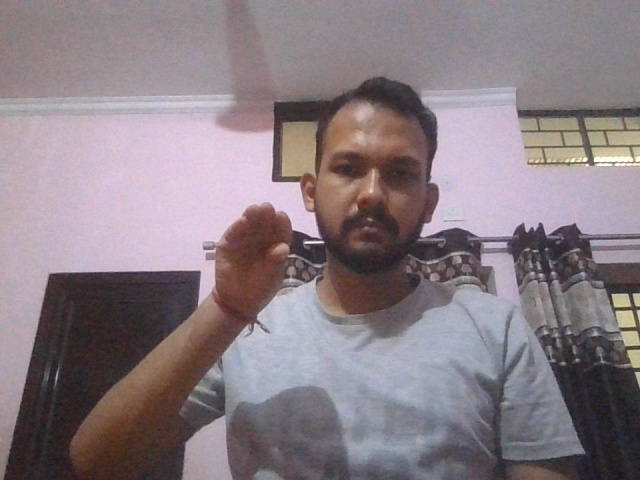no: (216, 204, 292, 314)
